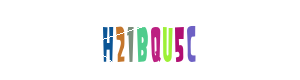1: (98, 0, 178, 80)
2: (80, 0, 160, 80)
5: (127, 0, 207, 80)
B: (105, 0, 185, 80)
C: (132, 0, 212, 80)
H: (68, 0, 148, 80)
Q: (110, 0, 190, 80)
U: (127, 0, 207, 80)
